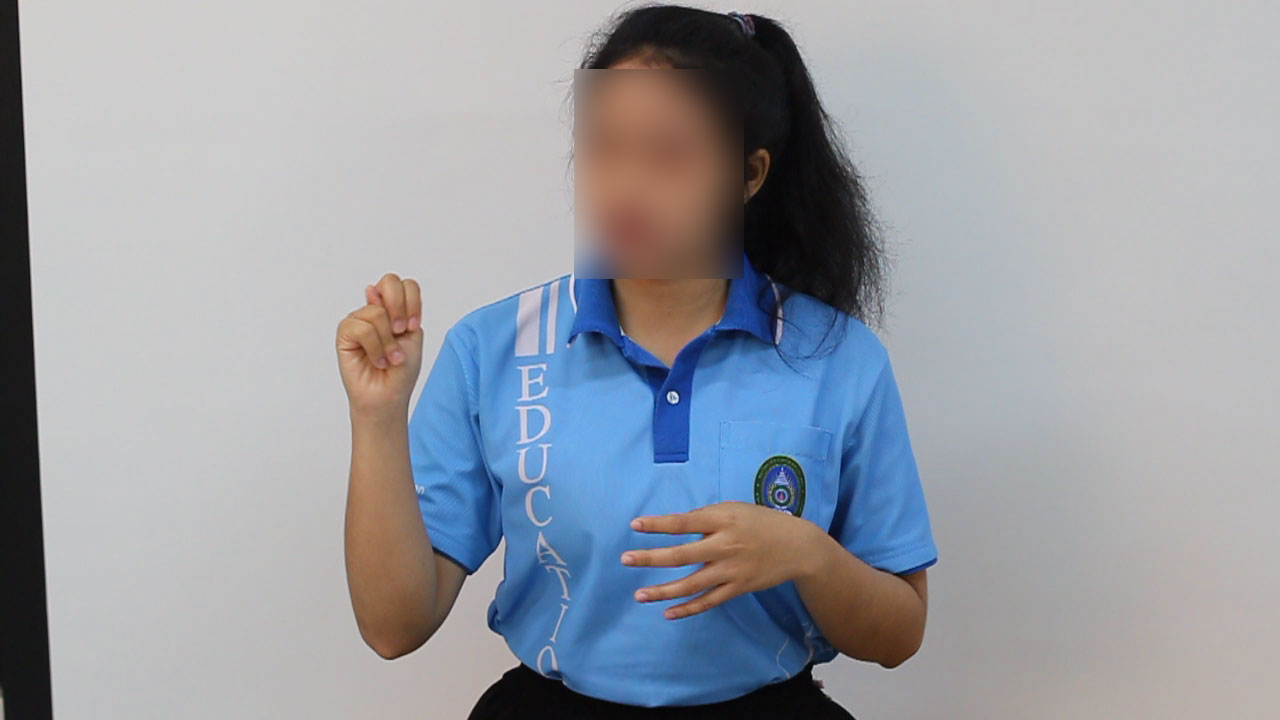nor: (316, 264, 434, 415)
